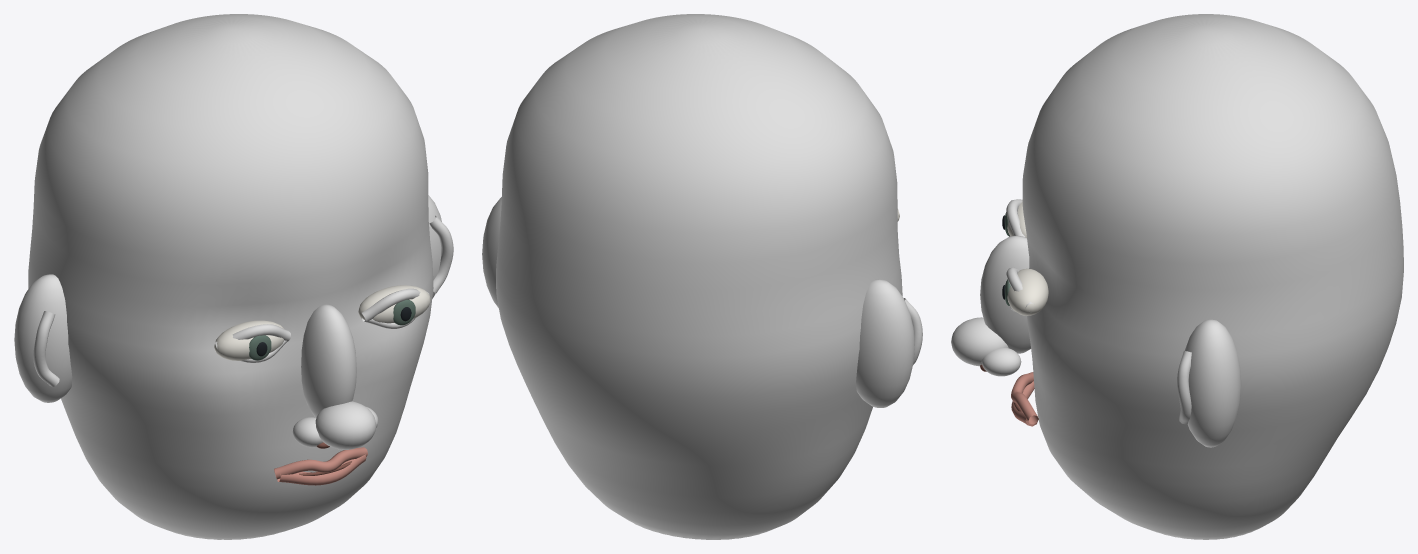
Rendered from office-head.glb.
The picture shows the model from 3 angles, left to right: view 1: azimuth 30°, elevation 25°; view 2: azimuth 150°, elevation 25°; view 3: azimuth 270°, elevation 25°; orthographic projection.
Visible parts, largest first — view 1: sculpted_skull, ear, nose_bridge, nose_tip, eye, eye.001, upper_lip, ear_fold, lower_lip, ear_fold.001, upper_lid.001, ear.001 (+2 smaller); view 2: sculpted_skull, ear, ear.001; view 3: sculpted_skull, ear.001, nose_bridge, nose_tip, eye.001, nose_wing.001, ear_fold.001, upper_lip.
Boxes of the visible parts, x1,y1,x2,y2 form: sculpted_skull: (28, 14, 433, 539); ear: (14, 274, 72, 402); nose_bridge: (301, 304, 356, 417); nose_tip: (315, 401, 376, 449); eye: (214, 320, 284, 360); eye.001: (358, 285, 430, 324); upper_lip: (274, 447, 367, 479); ear_fold: (33, 311, 59, 386); lower_lip: (277, 454, 366, 485); ear_fold.001: (429, 215, 453, 293); upper_lid.001: (361, 288, 429, 321); ear.001: (428, 195, 441, 298); sculpted_skull: (496, 14, 902, 539); ear: (856, 279, 914, 407); ear.001: (482, 197, 501, 307); sculpted_skull: (1022, 14, 1403, 539); ear.001: (1184, 319, 1241, 447); nose_bridge: (980, 235, 1030, 353); nose_tip: (951, 317, 1008, 366); eye.001: (1007, 268, 1048, 315); nose_wing.001: (981, 347, 1021, 376); ear_fold.001: (1177, 351, 1191, 424); upper_lip: (1011, 372, 1038, 424).
Size of the model in its own units: 0.318 by 0.3476 by 0.2964.
